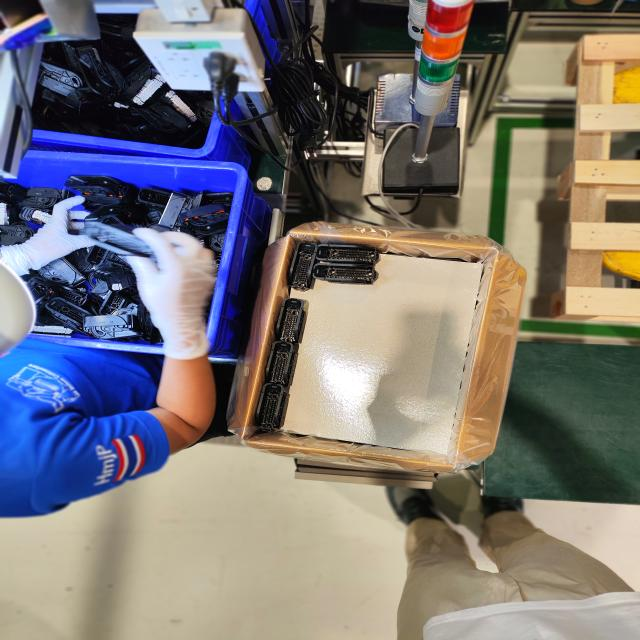P38: (255, 383, 288, 432), (288, 241, 318, 292), (265, 341, 298, 387), (276, 297, 307, 345), (316, 244, 380, 266), (312, 263, 378, 284)
